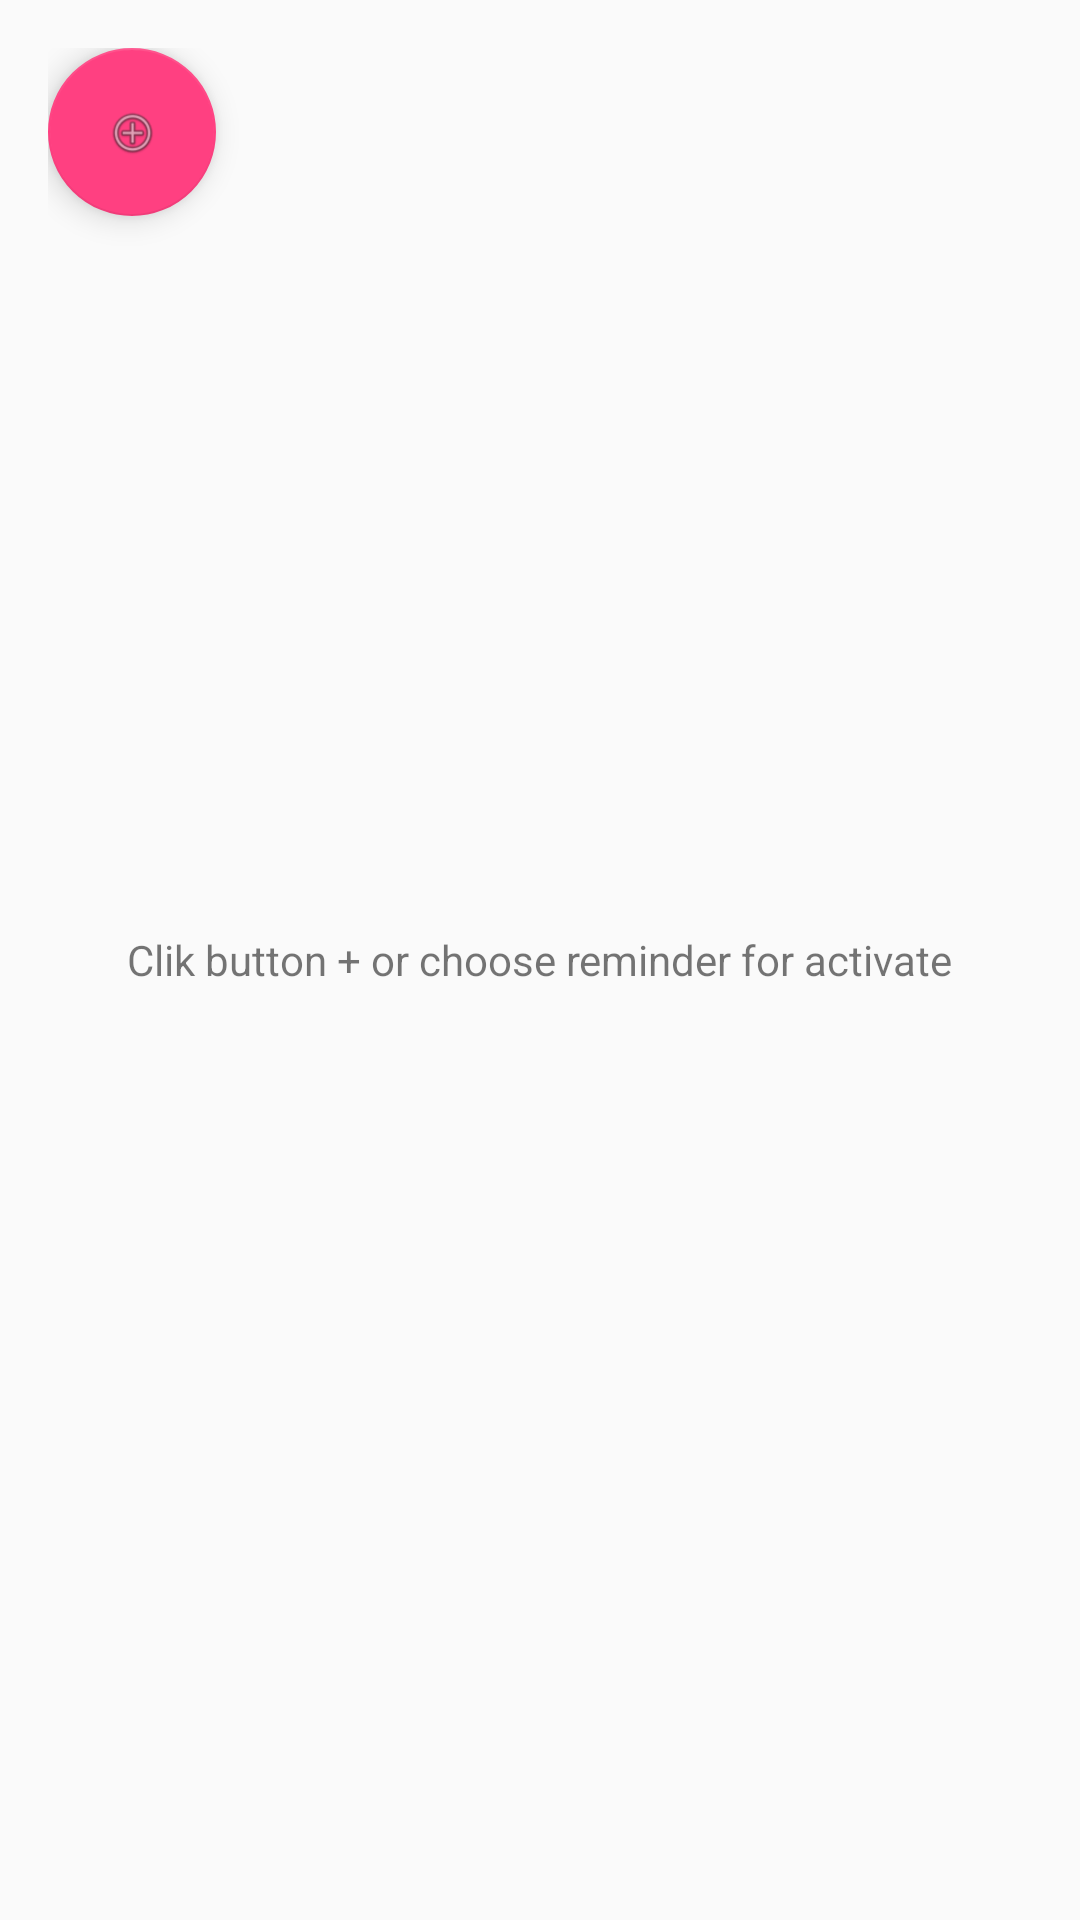

Icons on this 1080 × 1920 Android screen, each with the point to tap as [x,y]:
add: [132,132]
